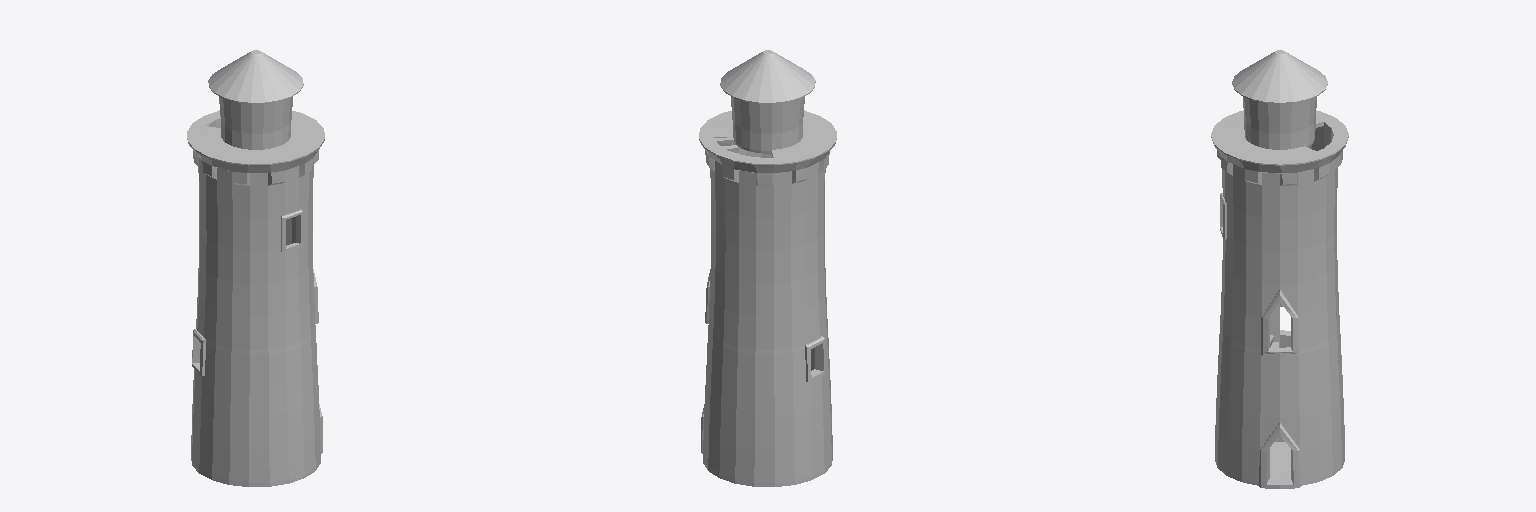
File: light.obj
The picture shows the model from 3 angles: view 1: azimuth 30°, elevation 25°; view 2: azimuth 150°, elevation 25°; view 3: azimuth 270°, elevation 25°; orthographic projection.
Parts seen in each view (by area): view 1: lighthouses; view 2: lighthouses; view 3: lighthouses.
Part boxes in pixels (x1,y1,x2,y2): lighthouses: (187, 50, 324, 486); lighthouses: (699, 50, 836, 486); lighthouses: (1211, 50, 1348, 488).
Bounding box in the file's own units: 9.12 × 29.39 × 9.04.